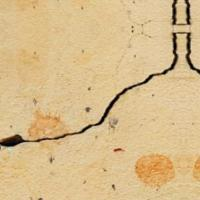crack: (1, 1, 199, 157)
